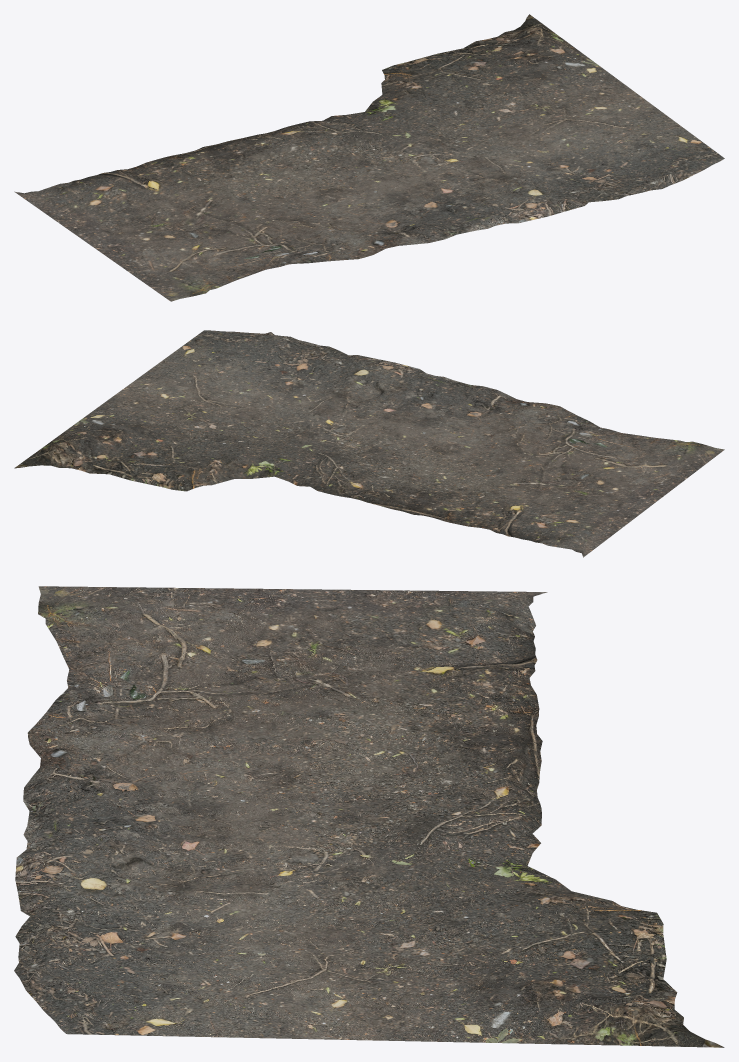
Rendered from sm_Ground_04_07.fbx.
The picture shows the model from 3 angles, top to bottom: view 1: azimuth 30°, elevation 25°; view 2: azimuth 150°, elevation 25°; view 3: azimuth 270°, elevation 25°; orthographic projection. The views are drawn at different scales.
Visible parts, largest first — view 1: sm_Ground_04_07_LOD0; view 2: sm_Ground_04_07_LOD0; view 3: sm_Ground_04_07_LOD0.
Boxes of the visible parts, box(x1,y1,x2,y2) form: sm_Ground_04_07_LOD0: box(14, 14, 724, 301); sm_Ground_04_07_LOD0: box(14, 330, 724, 557); sm_Ground_04_07_LOD0: box(14, 586, 724, 1047).
Size of the model in its own units: 241 by 160 by 5.26.
